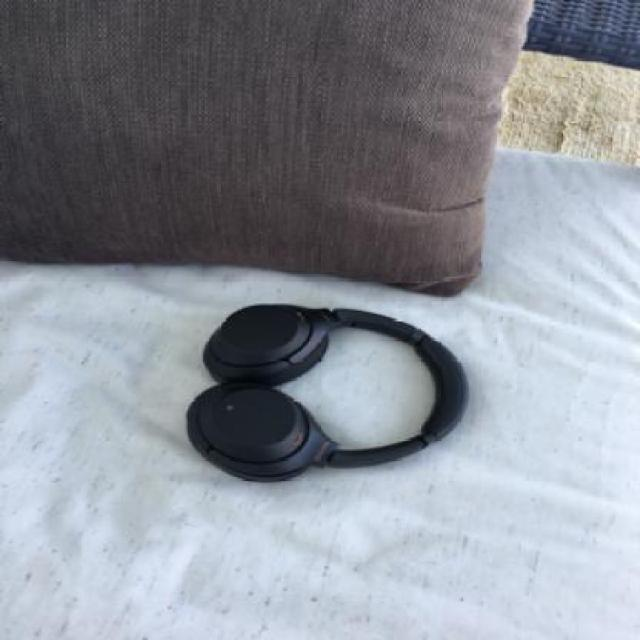earphone: (182, 258, 485, 522)
